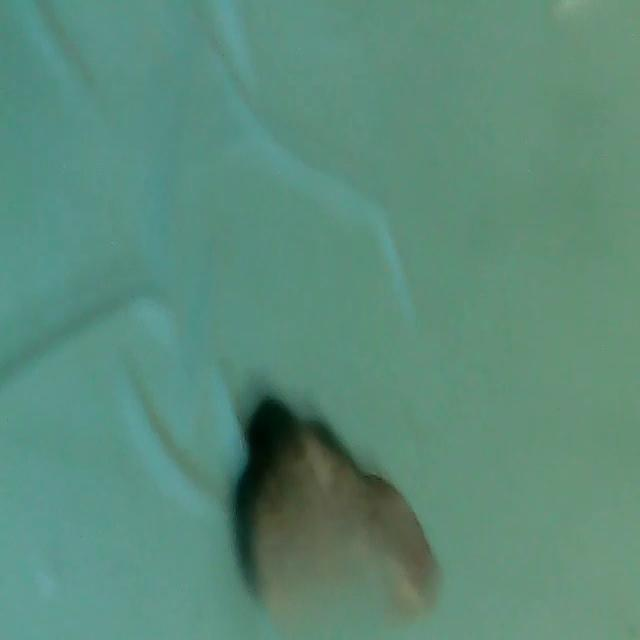rock: (237, 412, 450, 630)
